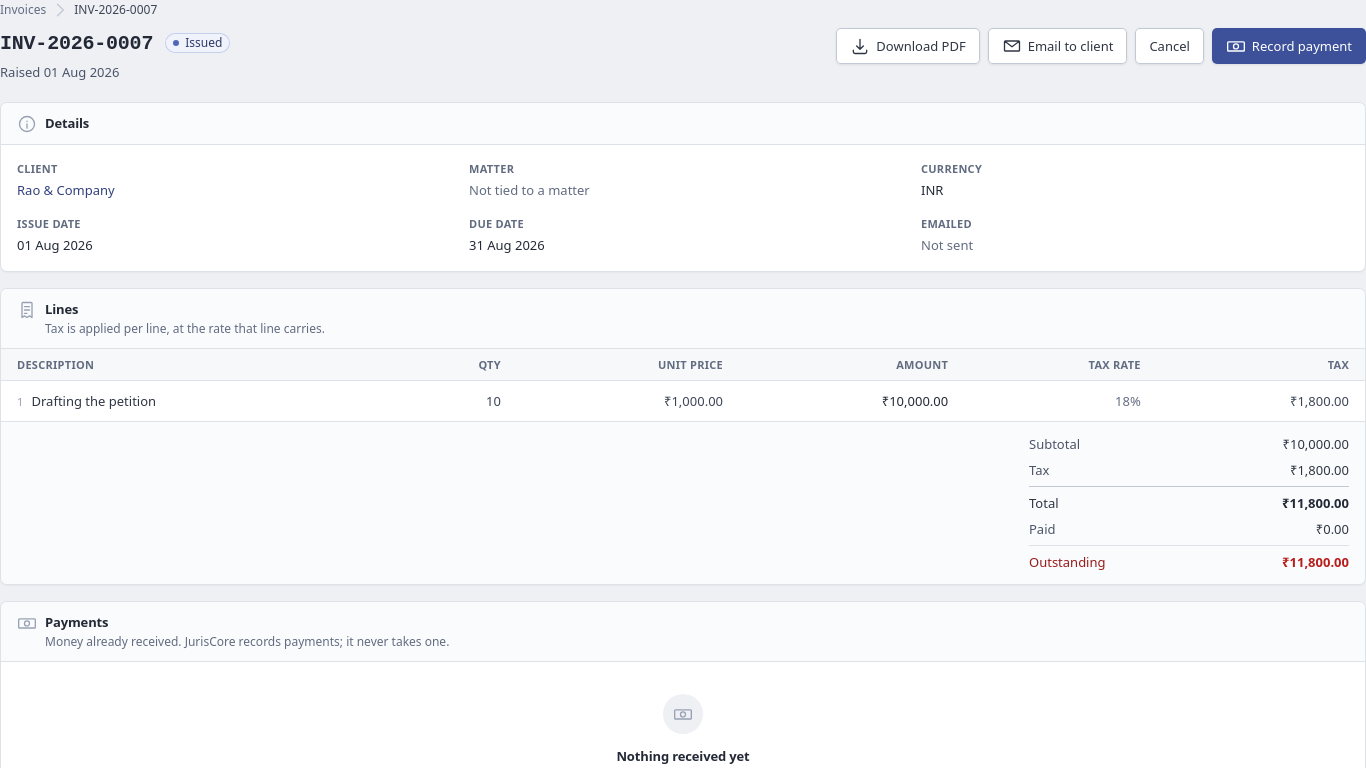
Test: InvoiceDetailPage — emailing the client › reports a provider failure and never claims the invoice went out
Click the button "Email to client". click: (1058,46)
box: [988,28,1127,64]
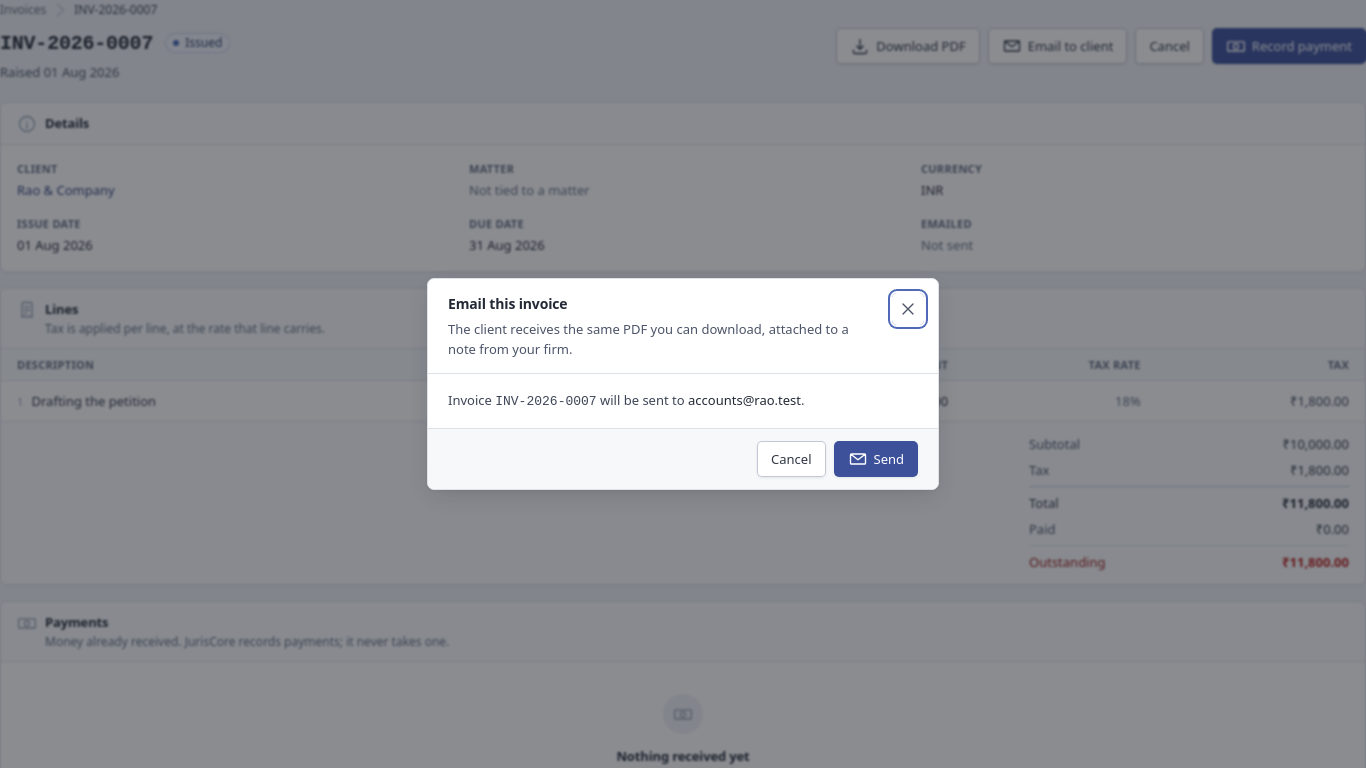
Click the button "Send". click: (876,459)
box: [834,441,918,477]
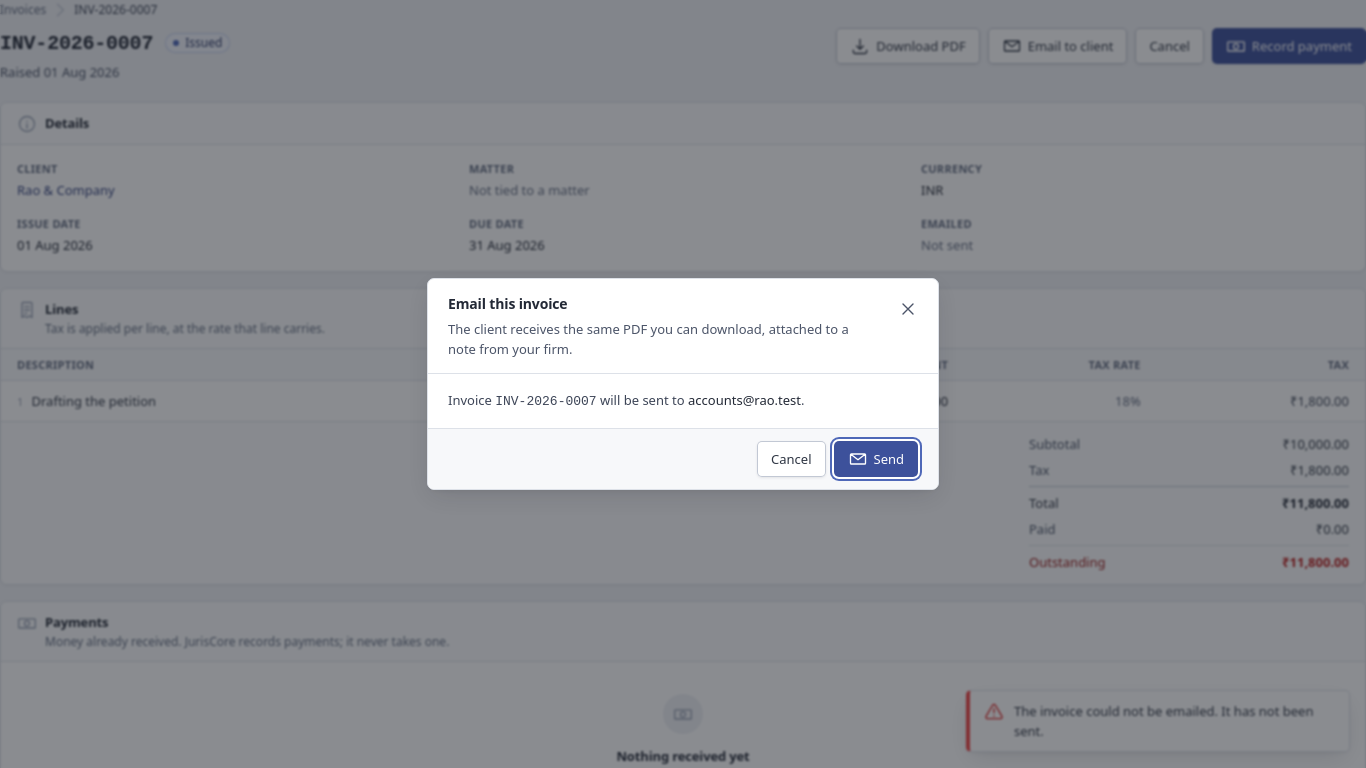
Result: the text "The invoice could not be emailed. It has not been sent." is shown at [1014,701,1335,741]
